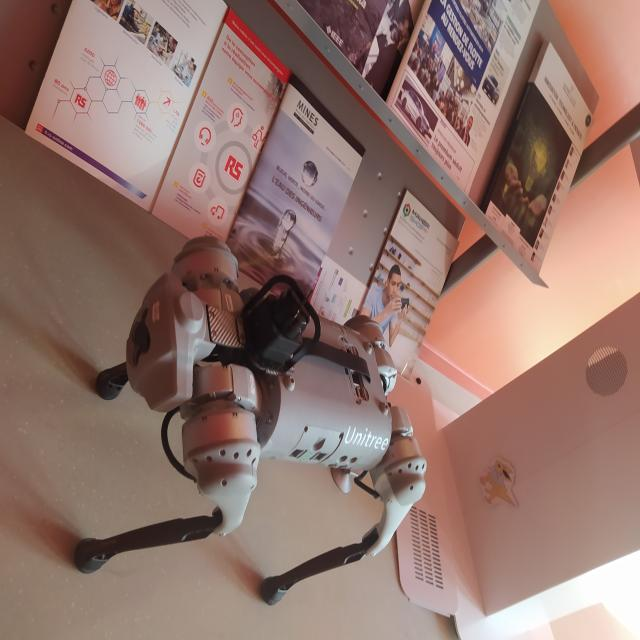unitree-go1-robot: (61, 217, 432, 619)
